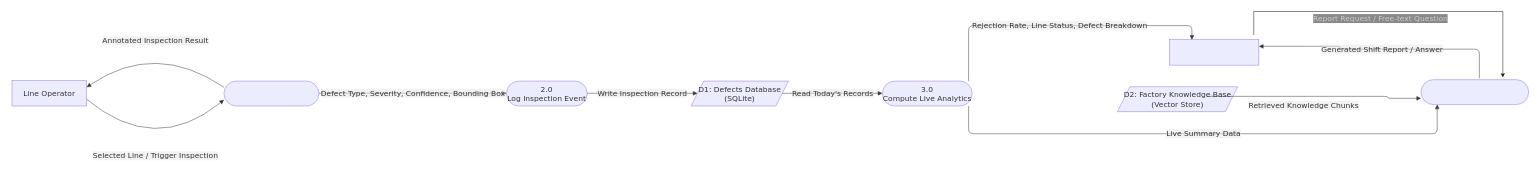
Some shapes in this 1537 by 169 pixel diagram are drawn without their labels. Each missing label, with the centre of its shape:
"1.0 Capture & Detect Defect" goes at [271,93].
"4.0 Generate AI Report / Answer" goes at [1475,92].
"Quality Supervisor" goes at [1214,52].
